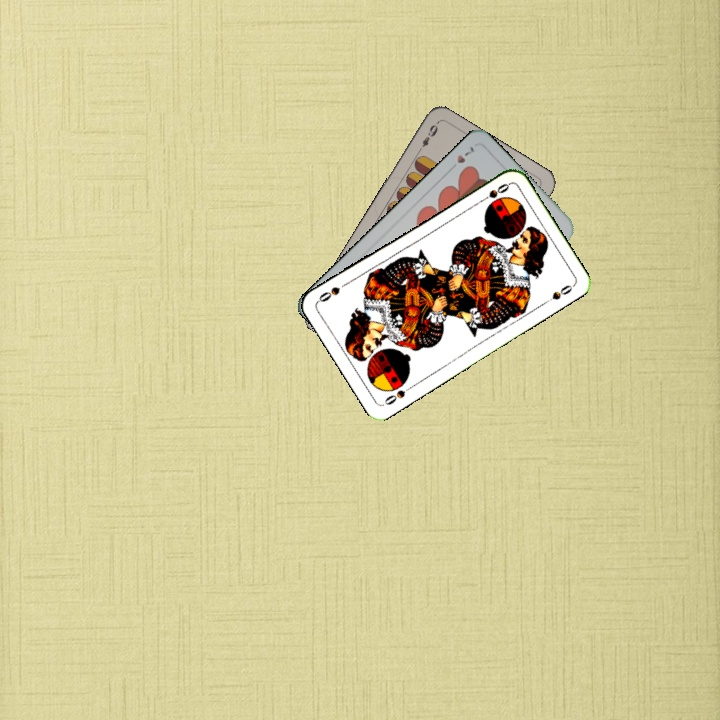E9: (414, 120, 440, 156)
H7: (445, 142, 477, 173)
SO: (380, 381, 416, 408), (475, 179, 512, 205)
